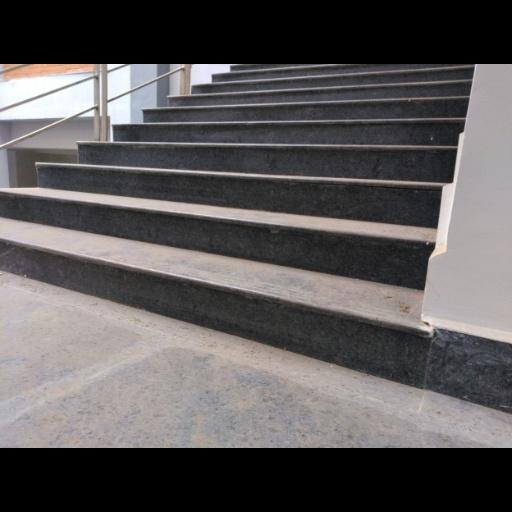stairs: (0, 64, 473, 385)
